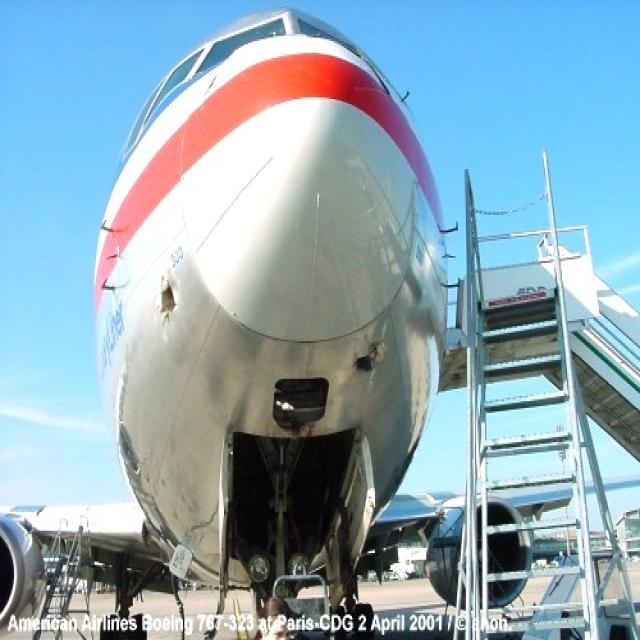dent: (353, 335, 383, 375), (154, 283, 182, 317)
